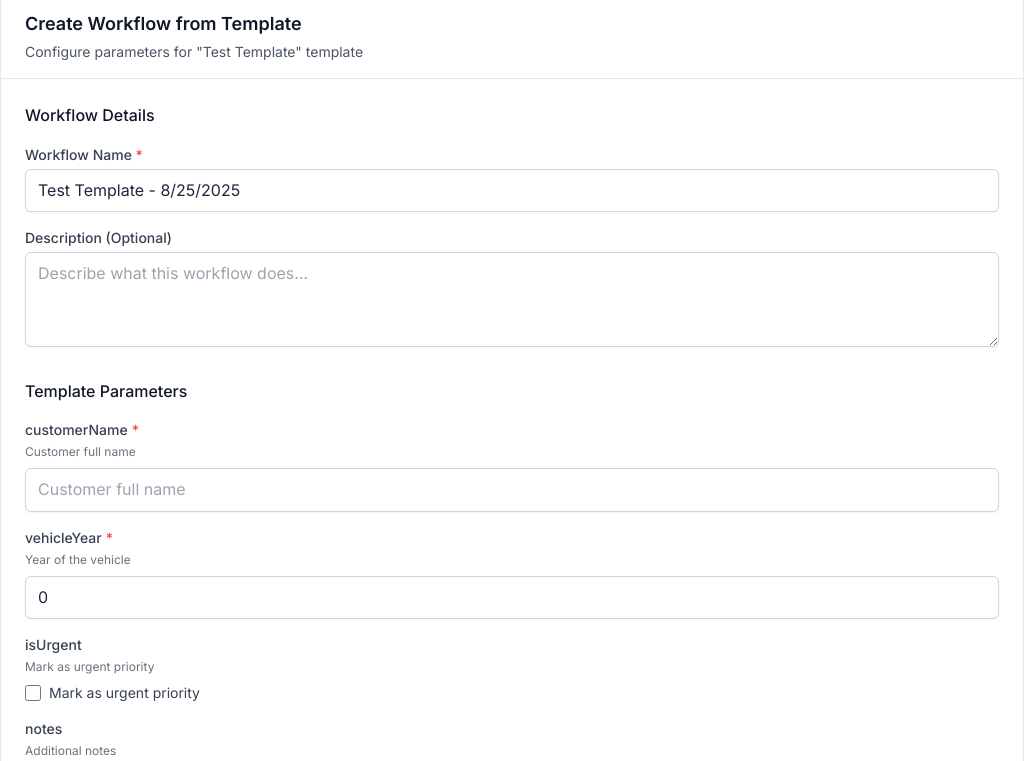
Test: TemplateInstantiationForm › Form Submission › shows loading state during submission
Clear the default workflow name and set our own
Replace the text in the field labelled "Workflow Name *" with "My Test Workflow" at (512, 190), box [25, 169, 999, 212]
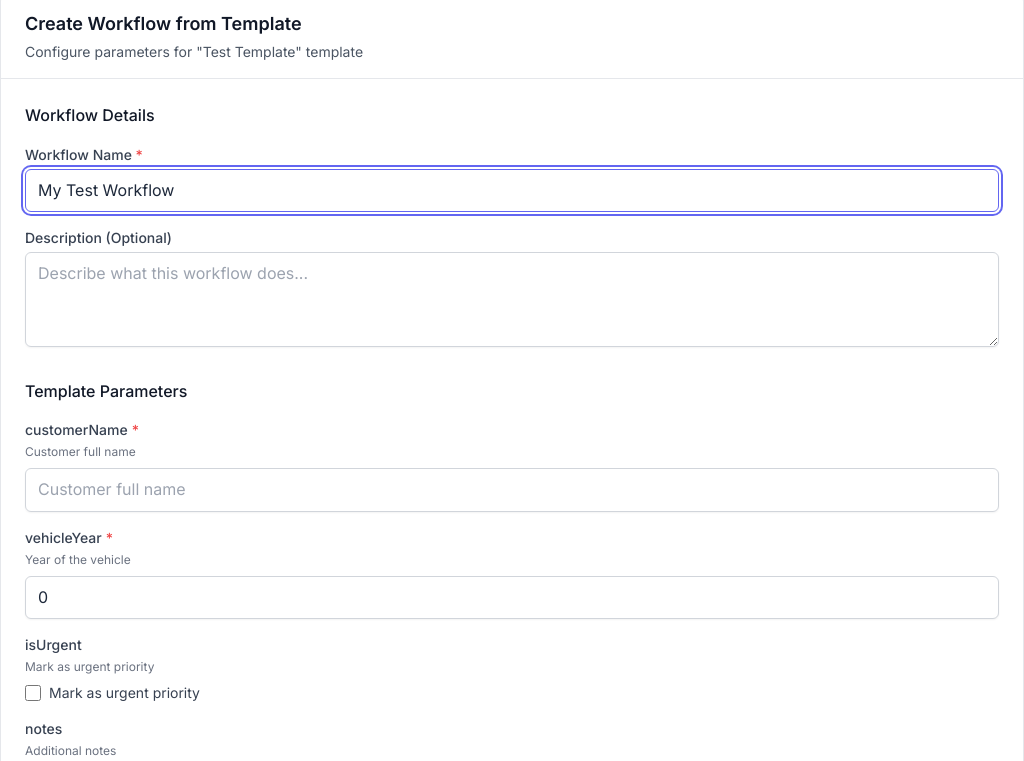
Type "John Doe" into the field labelled "customerName*" at (512, 490), box [25, 468, 999, 512]
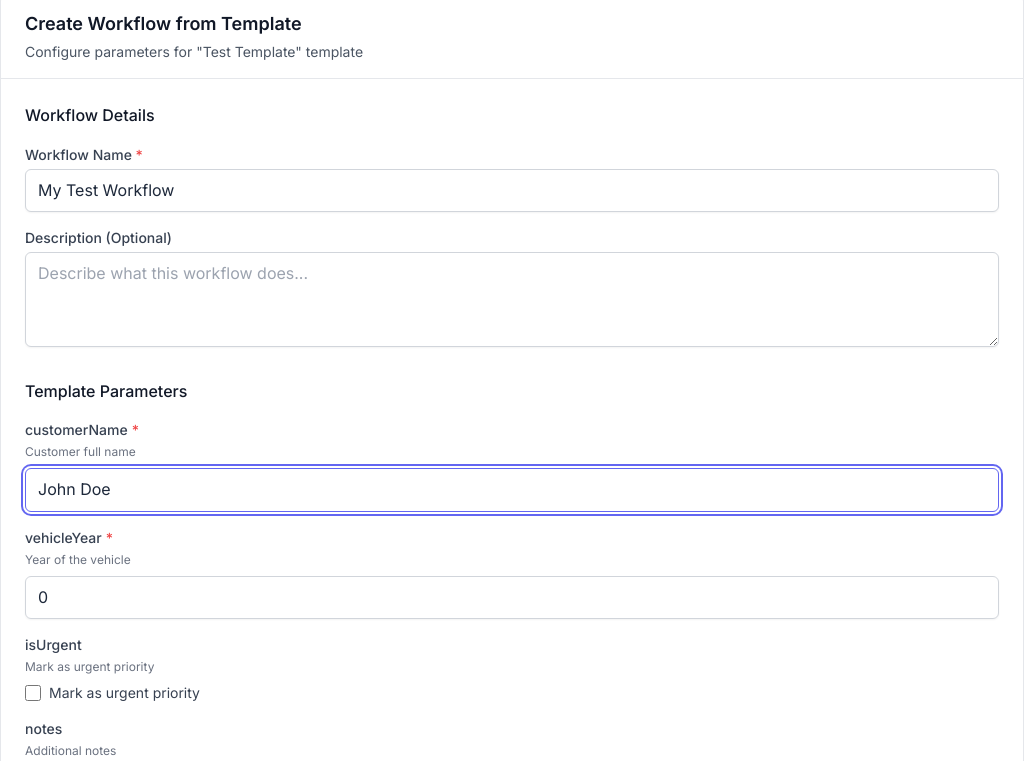
Type "2020" into the number field labelled "vehicleYear*" at (512, 598), box [25, 576, 999, 619]
(page scrolled)
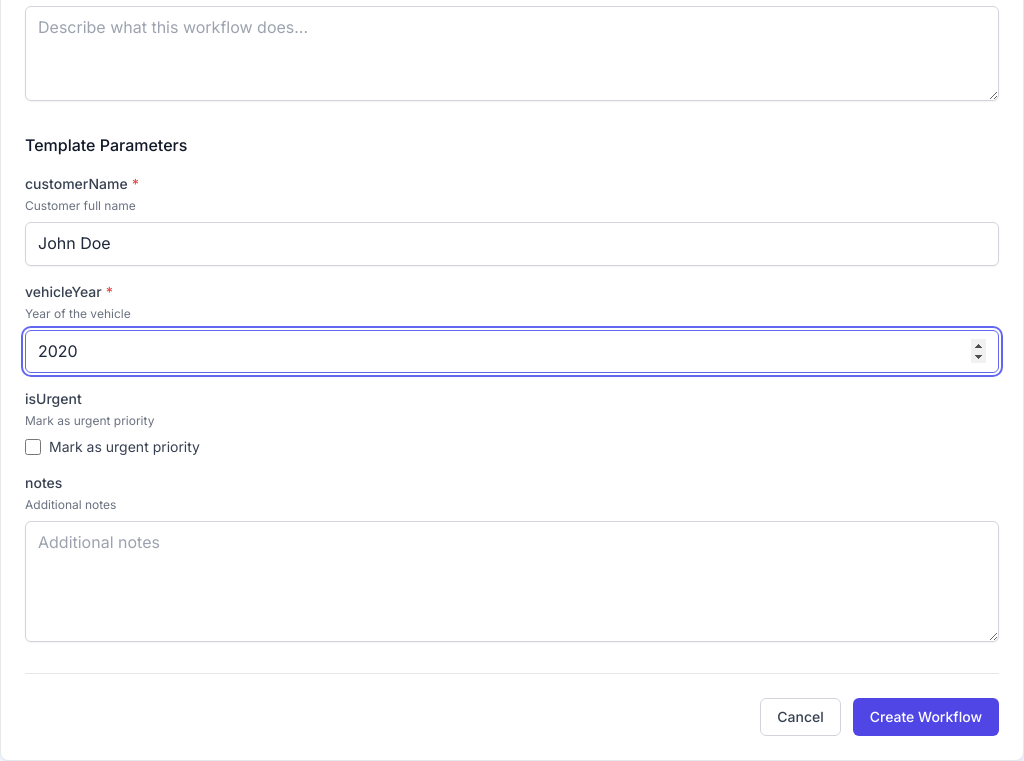
Submit form
Click the button "Create Workflow" at (926, 717), box [853, 698, 999, 736]
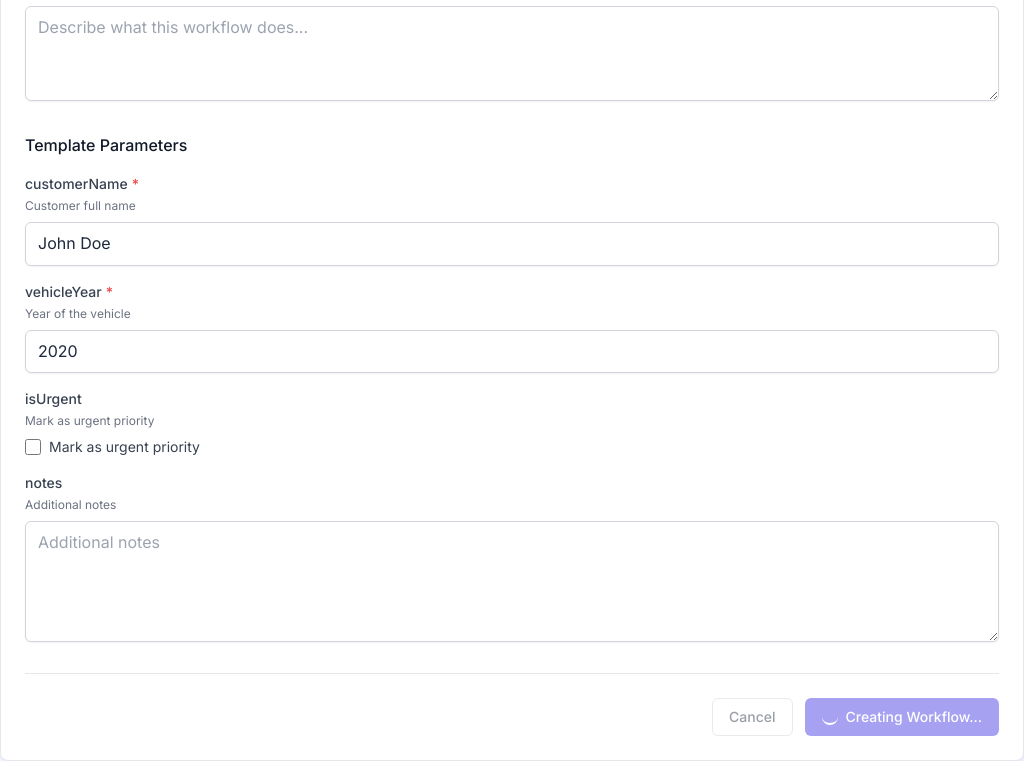
Expected: the text "Creating Workflow..." is shown, [822, 707, 982, 727]
Expected: the button "Creating Workflow..." is disabled, [804, 698, 999, 736]
Expected: the button "Cancel" is disabled, [712, 698, 792, 736]
